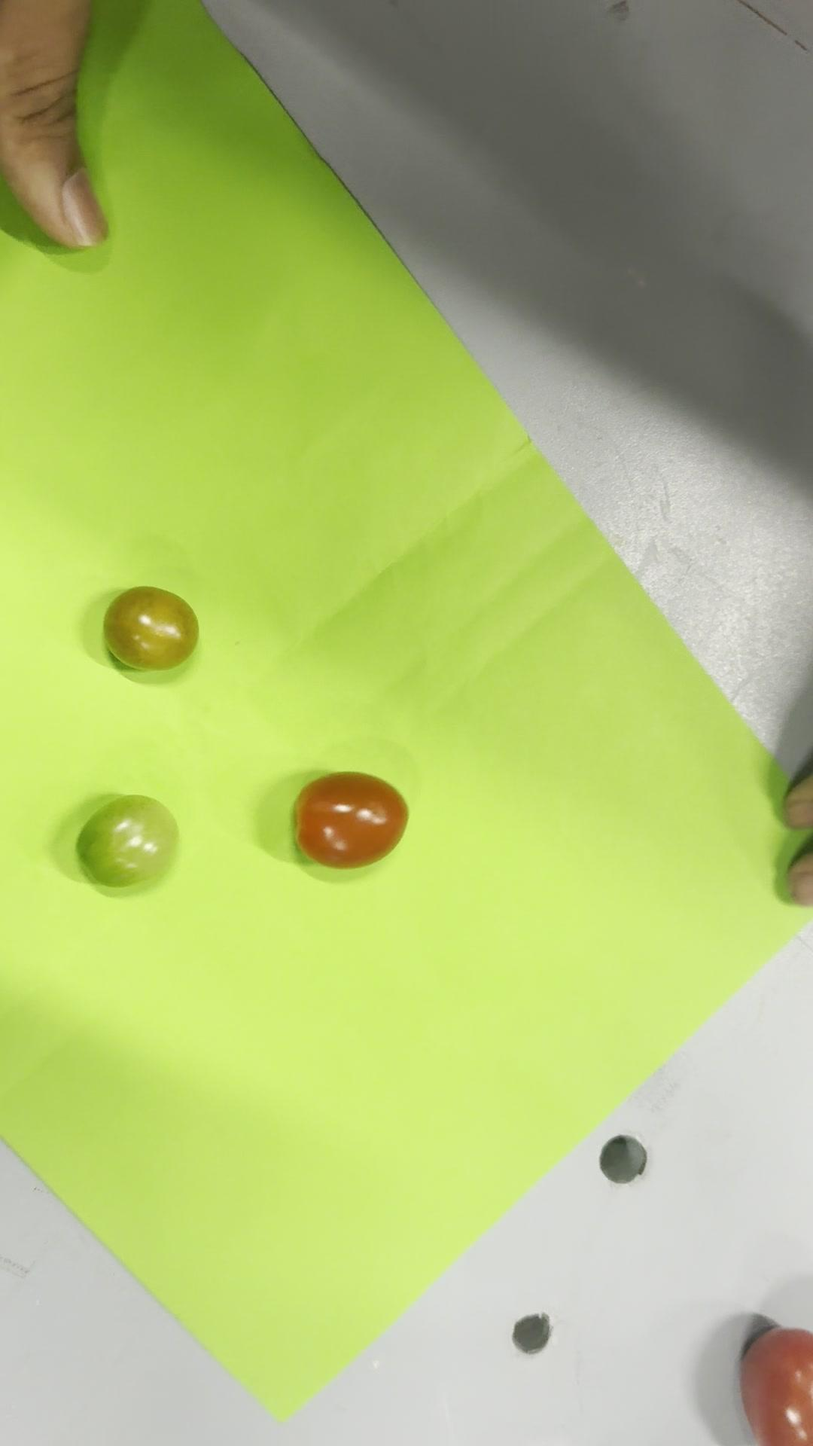green_cherry_tomato: (78, 795, 177, 887)
red_cherry_tomato: (293, 772, 408, 869)
yellow_cherry_tomato: (103, 586, 198, 671)
